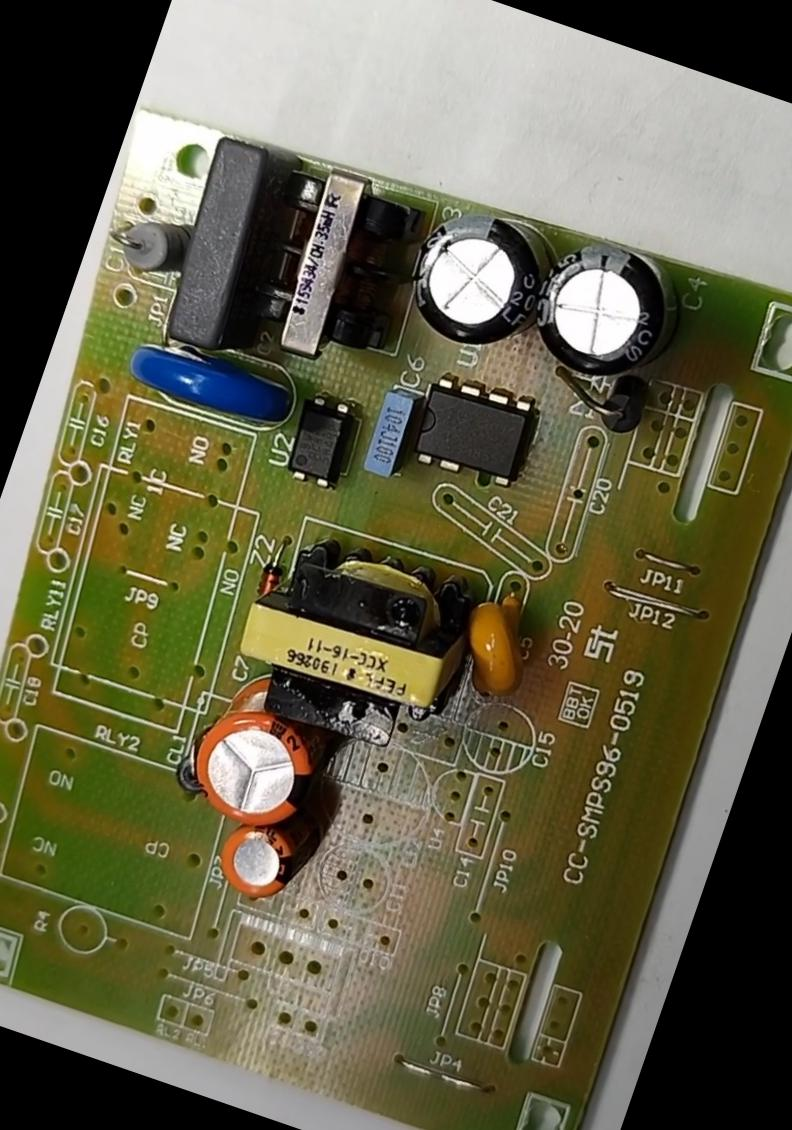Cap1: (180, 688, 340, 840)
Cap2: (210, 818, 304, 910)
Cap3: (392, 196, 560, 363)
Cap4: (520, 232, 684, 398)
MOSFET: (408, 370, 544, 498)
Mov: (122, 339, 296, 437)
Resistor: (103, 200, 198, 288)
Transformer: (221, 514, 490, 766), (241, 154, 428, 380)
